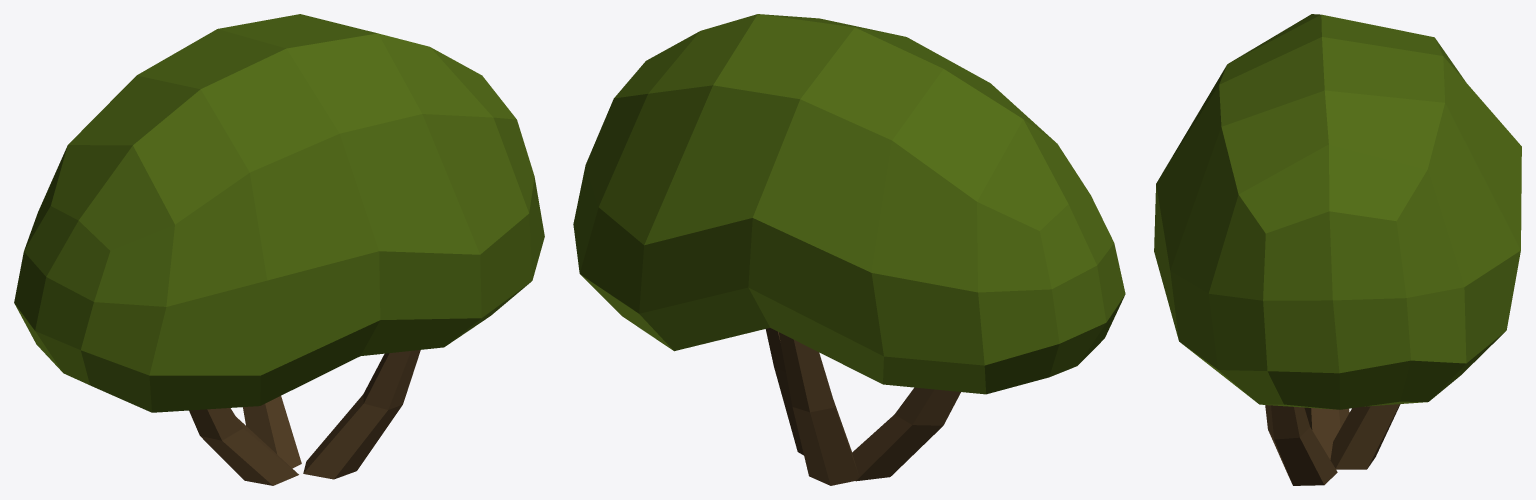
Rendered from TreesAndBushes_059.fbx.
The picture shows the model from 3 angles, left to right: view 1: azimuth 30°, elevation 25°; view 2: azimuth 150°, elevation 25°; view 3: azimuth 270°, elevation 25°; orthographic projection. The views are drawn at different scales.
Parts seen in each view (by area): view 1: TreesAndBushes_059; view 2: TreesAndBushes_059; view 3: TreesAndBushes_059.
Part boxes in pixels (x1=…): TreesAndBushes_059: x1=14, y1=14, x2=544, y2=485; TreesAndBushes_059: x1=573, y1=14, x2=1125, y2=485; TreesAndBushes_059: x1=1154, y1=14, x2=1521, y2=485.
Size of the model in its own units: 81.08 by 67.56 by 53.36.
